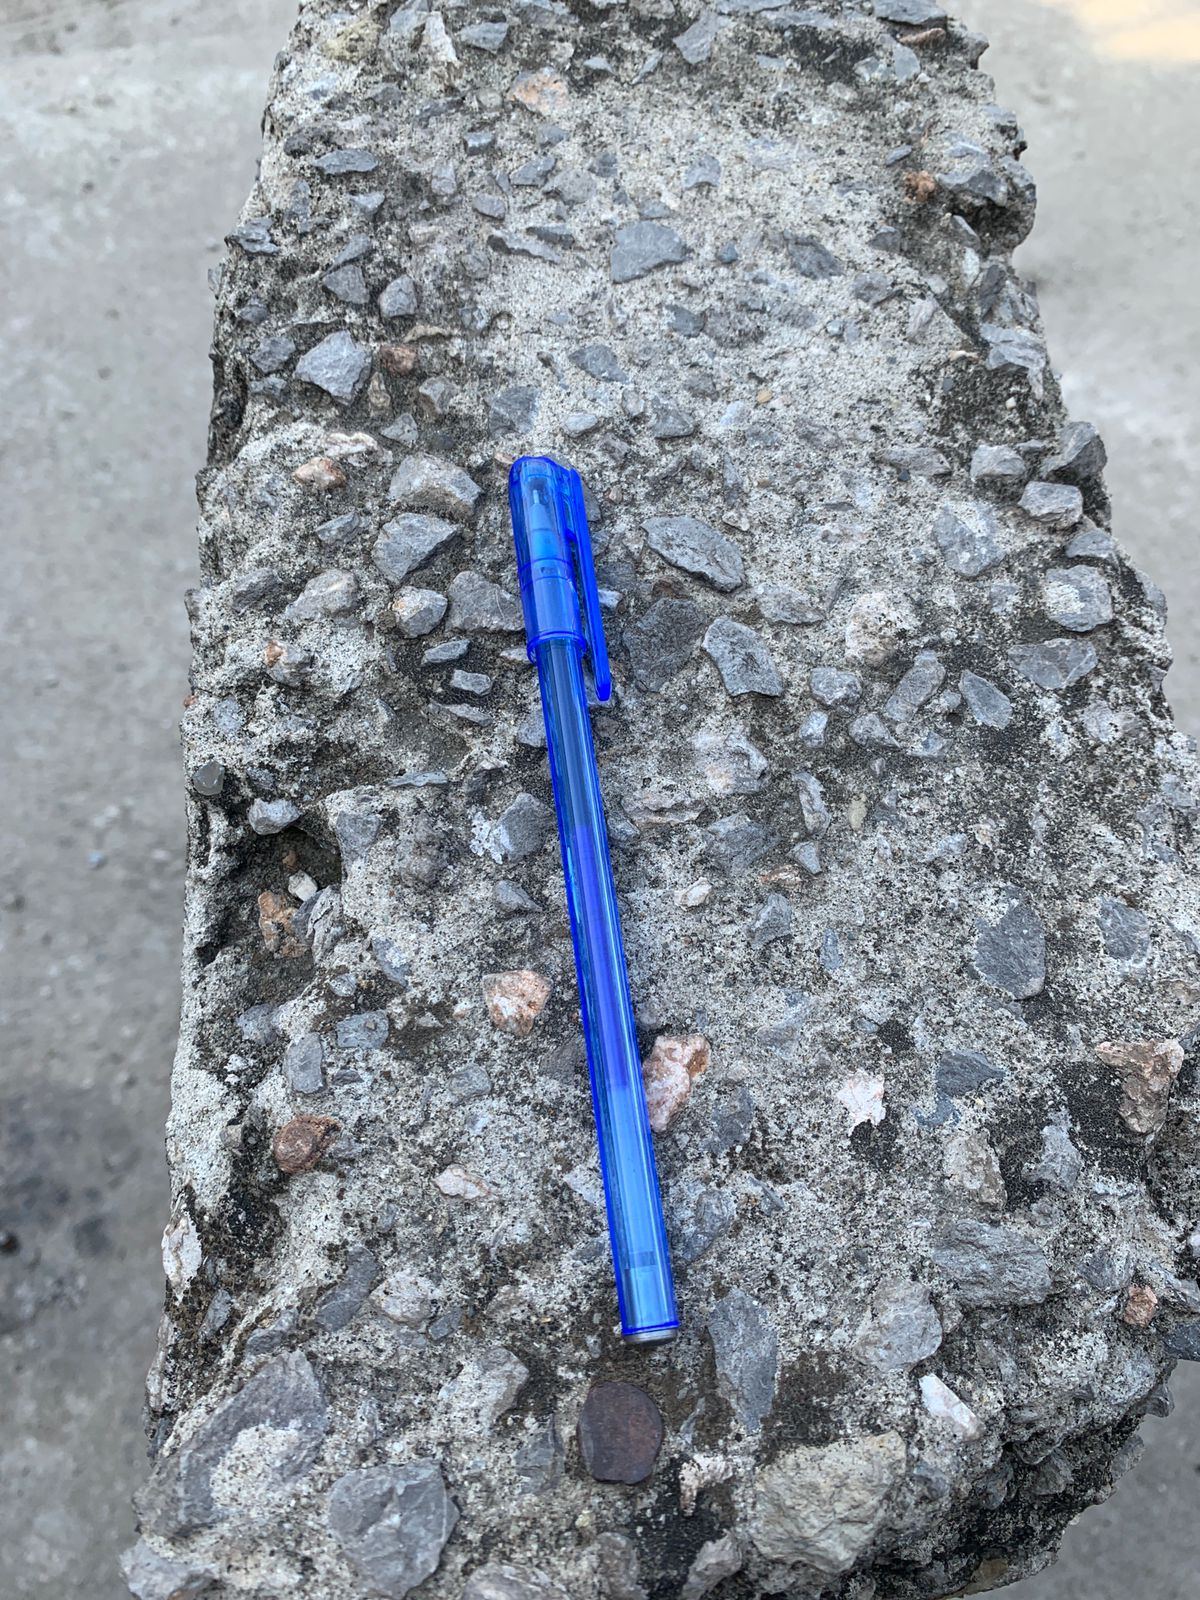pen: (384, 380, 824, 1460)
